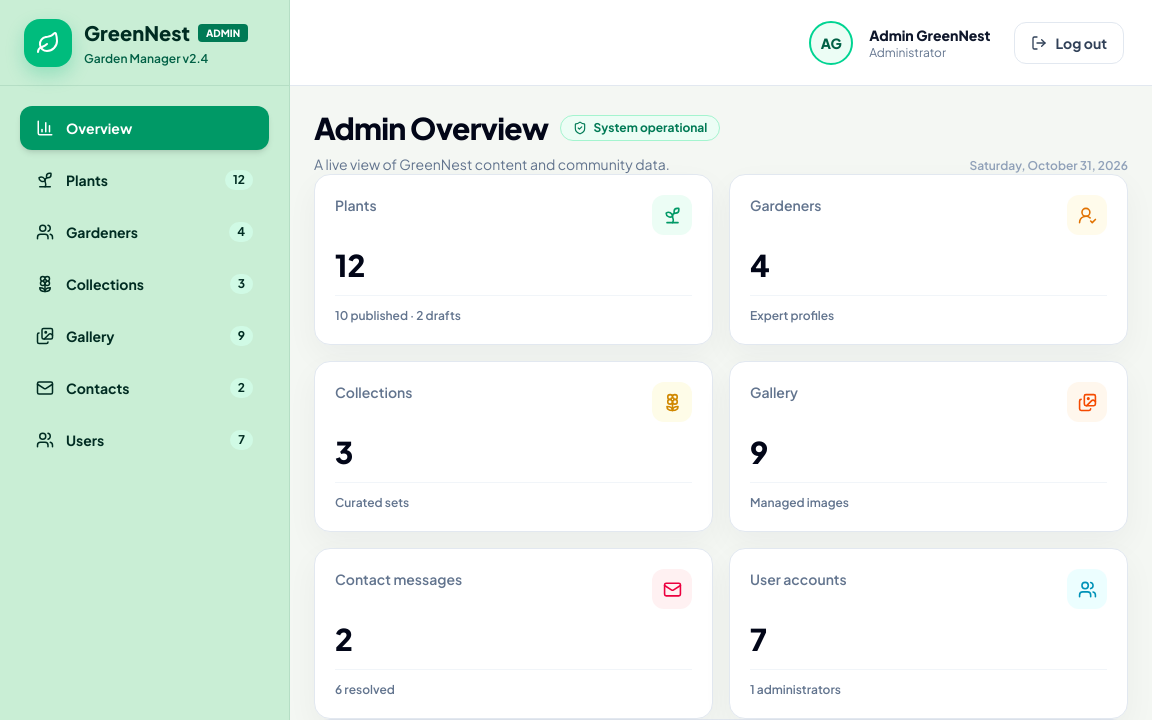
it: Admin dashboard › keeps the shell visible and disables writes when a module cannot load
Click the button "Plants 12": (144, 180) [20,158,269,202]
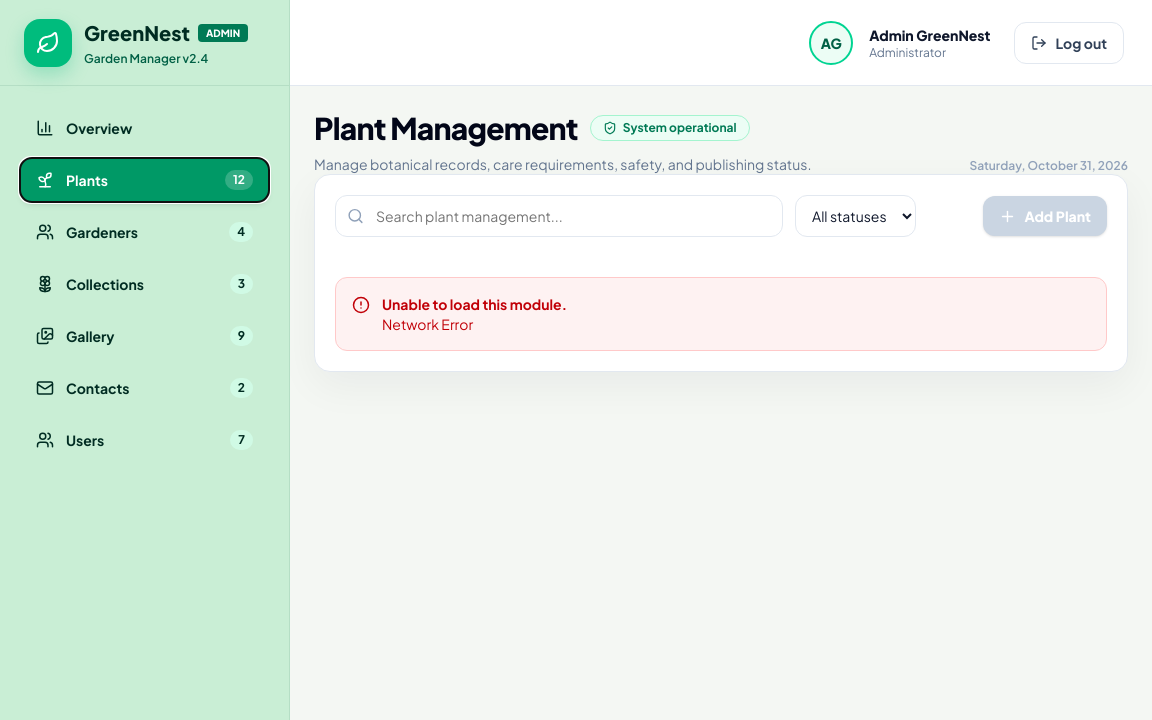
Expected: the text "Network Error" is shown, [382,315,473,333]
Expected: the button "Add Plant" is disabled, [984,196,1107,236]
